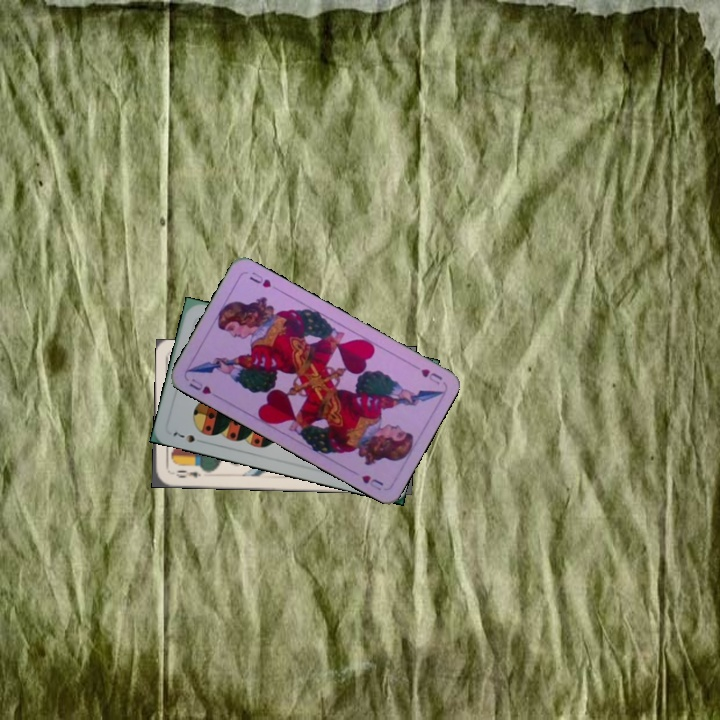EO: (172, 466, 203, 480)
HU: (408, 360, 445, 387), (185, 374, 214, 397)
S7: (169, 428, 207, 446)
